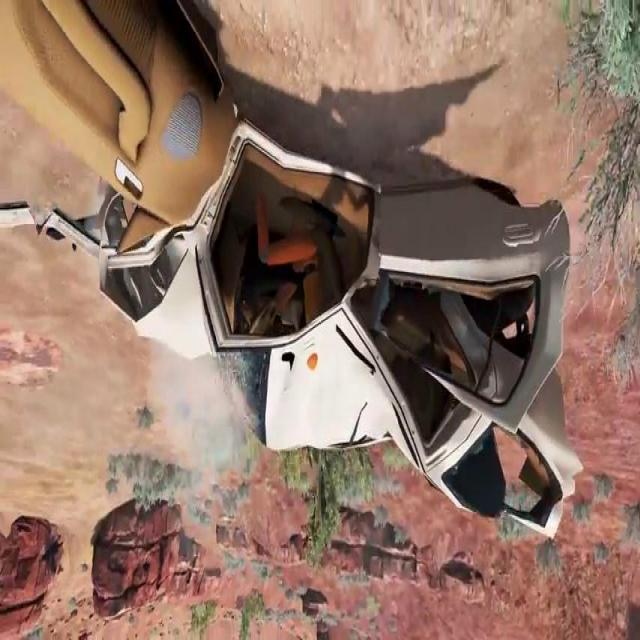severe: (0, 0, 586, 544)
